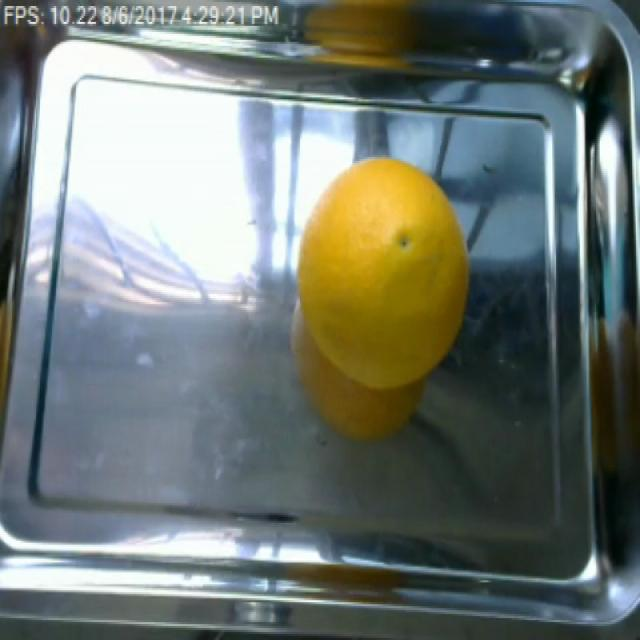Fruit: (287, 147, 469, 443)
